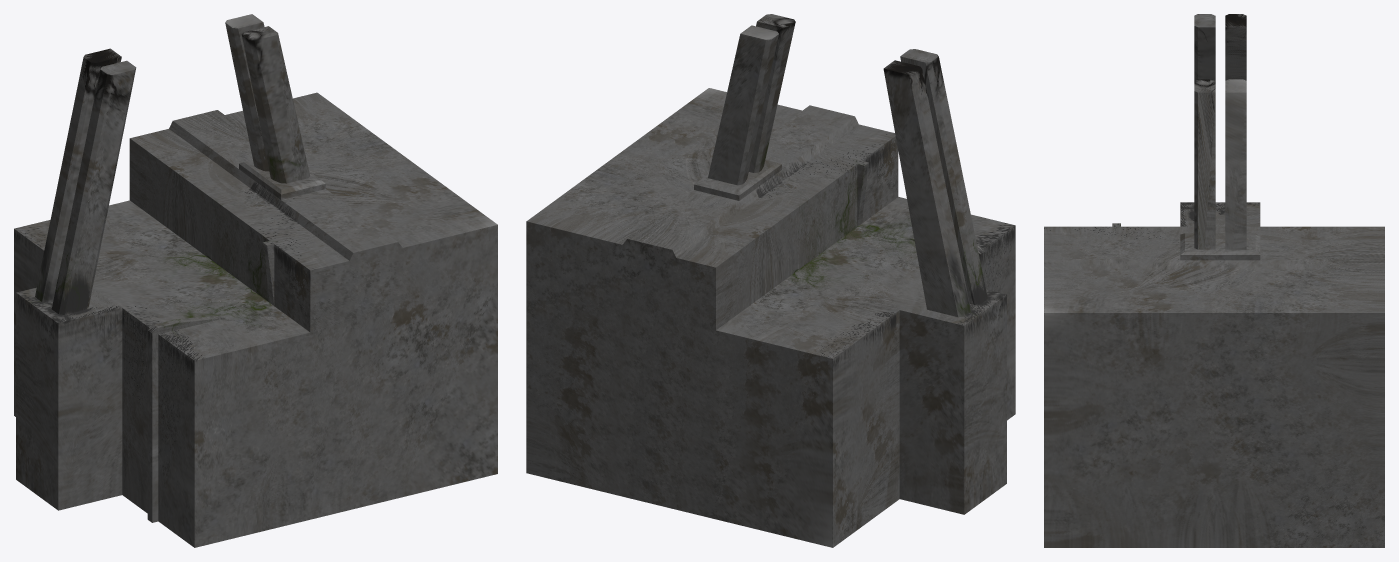
File: pillars-base.glb
3 views of the same model, side by side, from view 1: azimuth 30°, elevation 25°; view 2: azimuth 150°, elevation 25°; view 3: azimuth 270°, elevation 25° (orthographic). The views are drawn at different scales.
Visible parts, largest first — view 1: Cube_Cube.008, Cube.003_Cube.004; view 2: Cube_Cube.008, Cube.003_Cube.004; view 3: Cube_Cube.008, Cube.003_Cube.004.
Part boxes in pixels (x1,y1,x2,y2): Cube_Cube.008: (14,92,497,547); Cube.003_Cube.004: (35,14,309,314); Cube_Cube.008: (526,88,1015,547); Cube.003_Cube.004: (708,14,987,317); Cube_Cube.008: (1044,202,1384,547); Cube.003_Cube.004: (1194,14,1246,249).
Size of the model in its own units: 4.11 by 4.44 by 3.5.
Materials: 1 (1 with a texture image).
